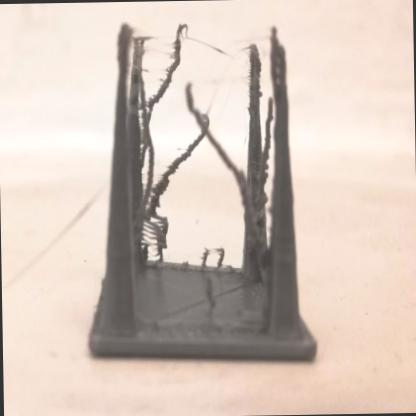fail: (140, 31, 195, 120), (138, 211, 173, 262), (187, 238, 224, 265)
